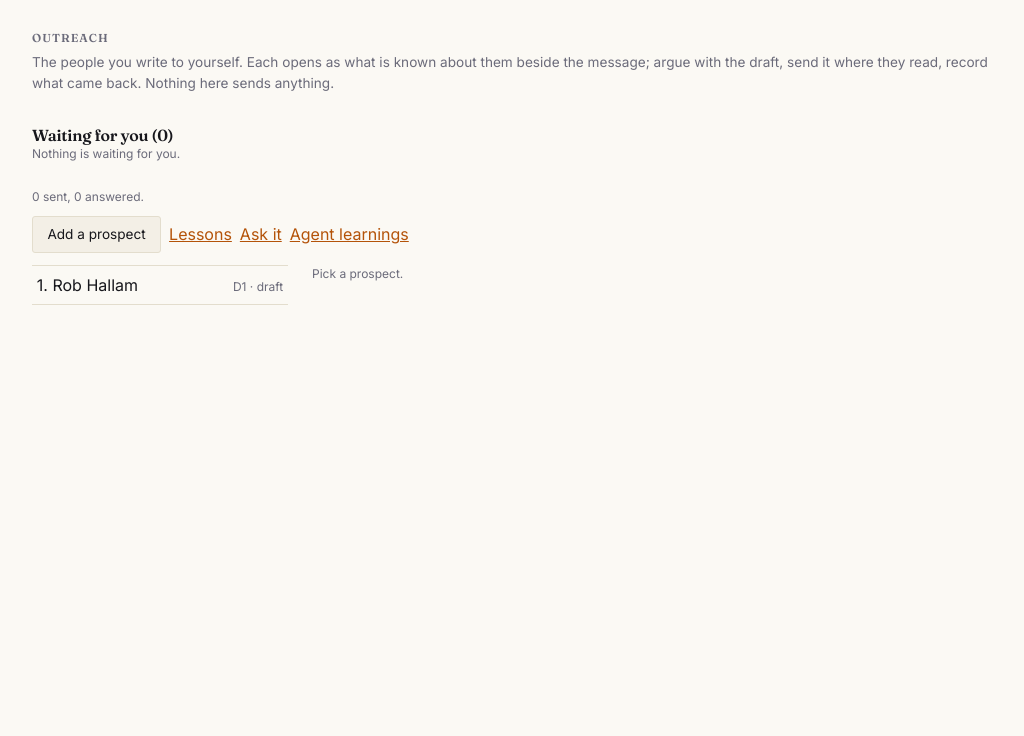
the outreach workbench › the argument accumulates: a push-back carries the earlier turns
This screenshot has width=1024, height=736.
Click the button "1. Rob Hallam D1 · draft" at (160, 285), box [32,266,288,304]
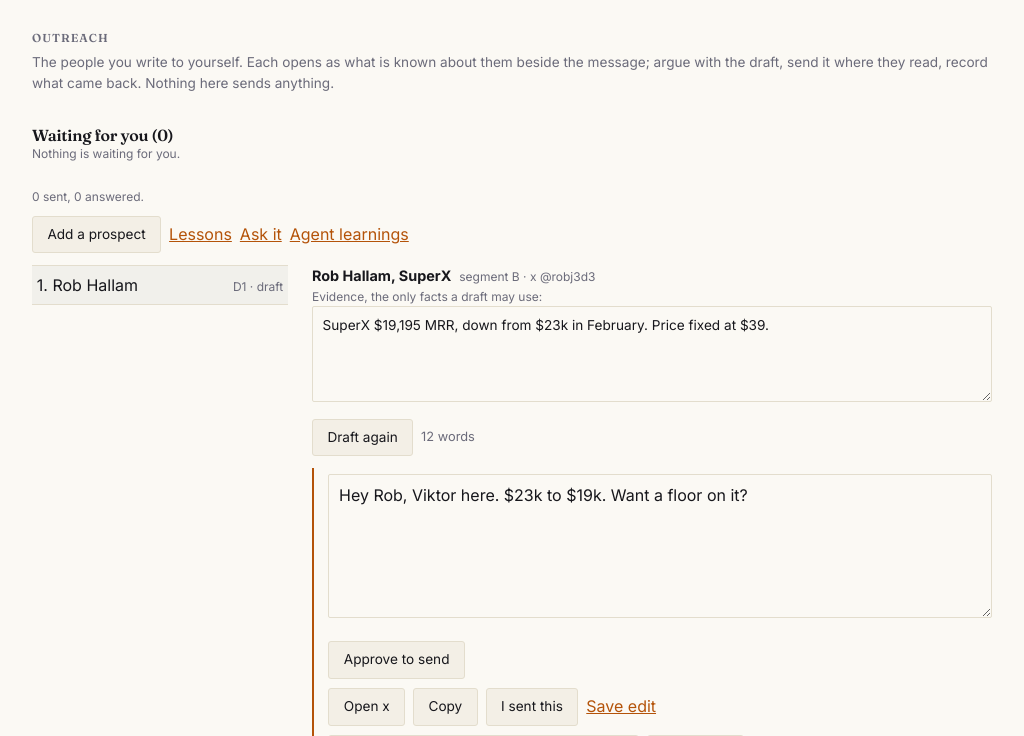
Click the button "Draft again" at (363, 437), box [312,418,413,456]
(page scrolled)
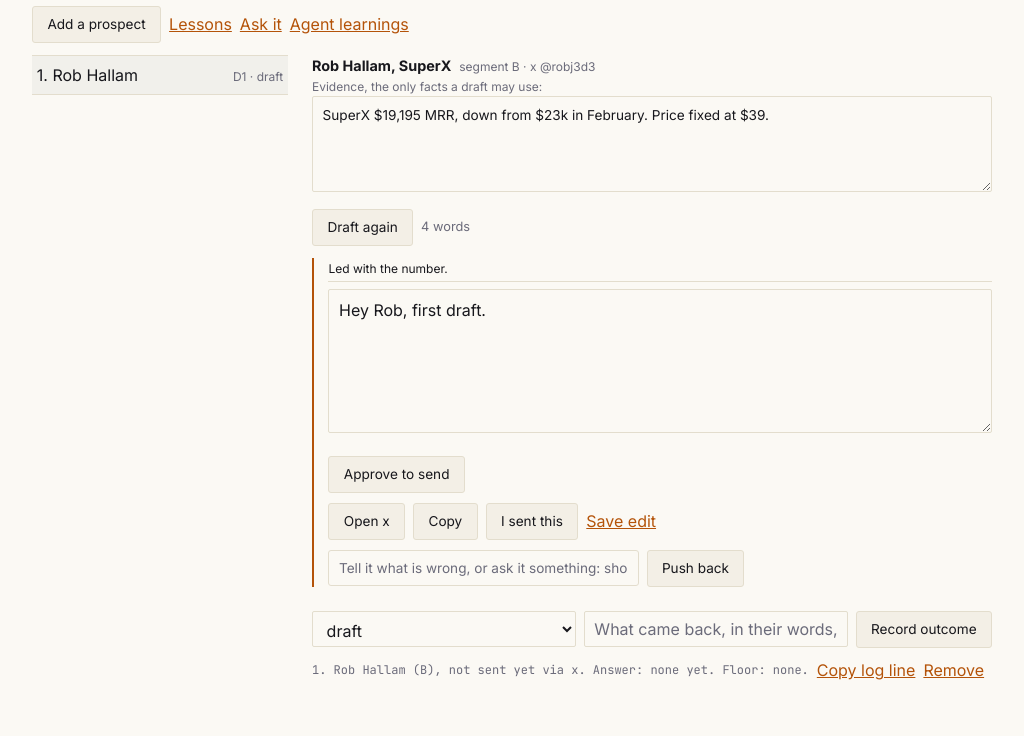
Check: the list item "Led with the number." is shown, box [328,258,992,282]
Check: the text box named "The message you will send" holds "Hey Rob, first draft.", box [328,289,992,433]
Replace the text in the field with placeholder "Tell it what is wrong" with "shorter" at (483, 568), box [328,550,638,586]
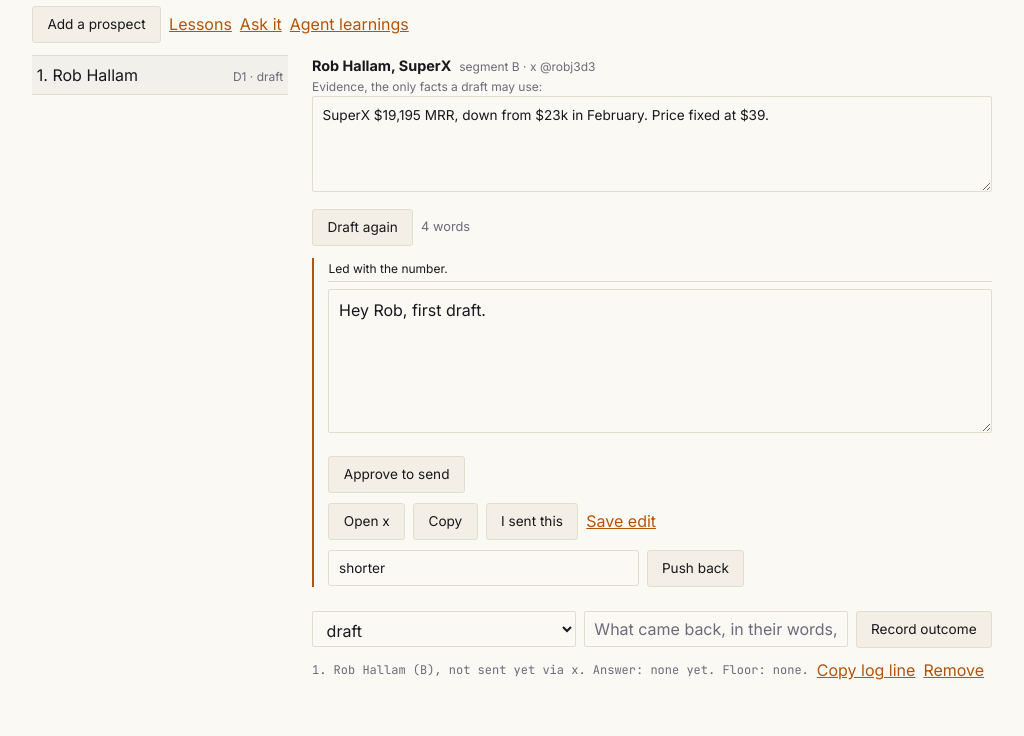
Click the button "Push back" at (695, 568), box [646,550,744,587]
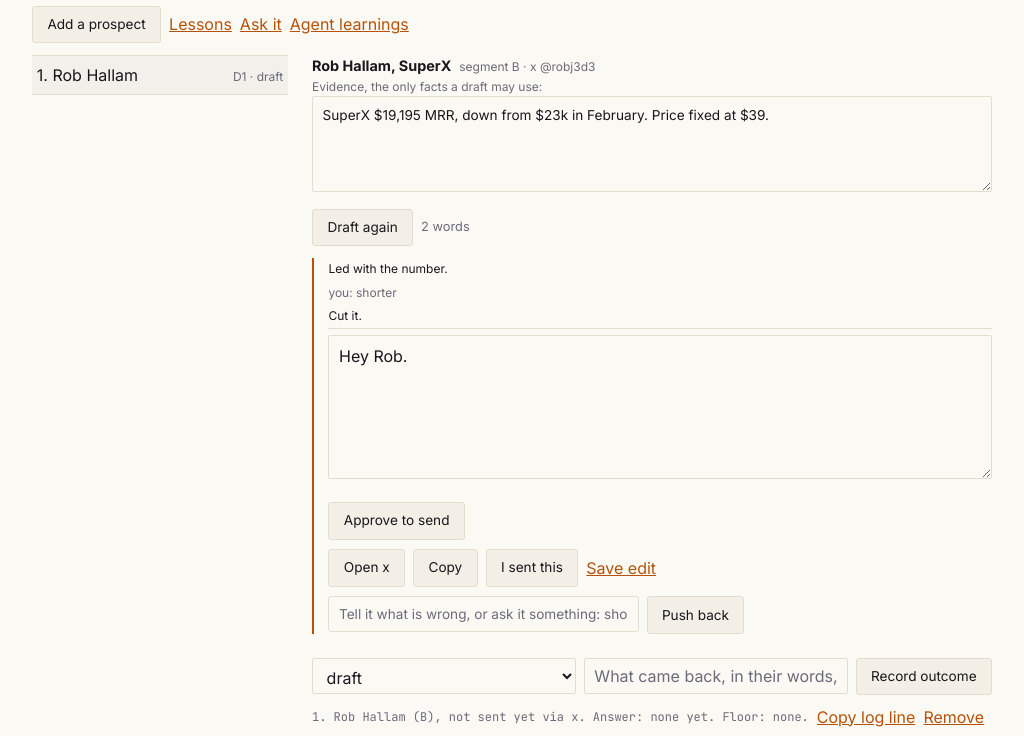
Check: the list item "Led with the number." is shown, box [328,261,448,276]
Check: the list item "Cut it." is shown, box [328,305,992,329]
Check: the list item "you: shorter" is shown, box [328,285,397,300]
